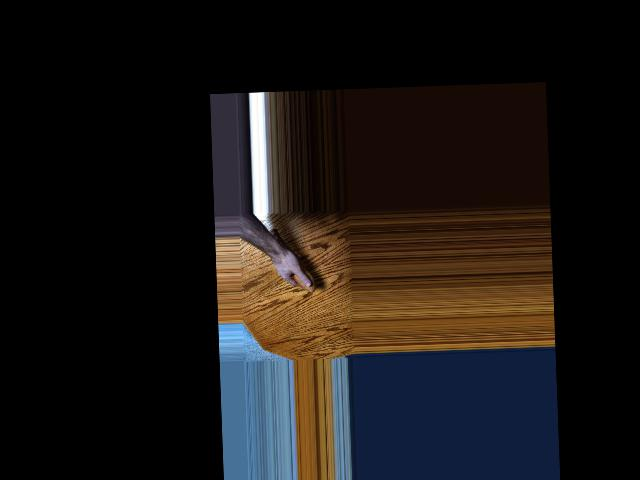sweet_potato: (268, 225, 315, 294)
